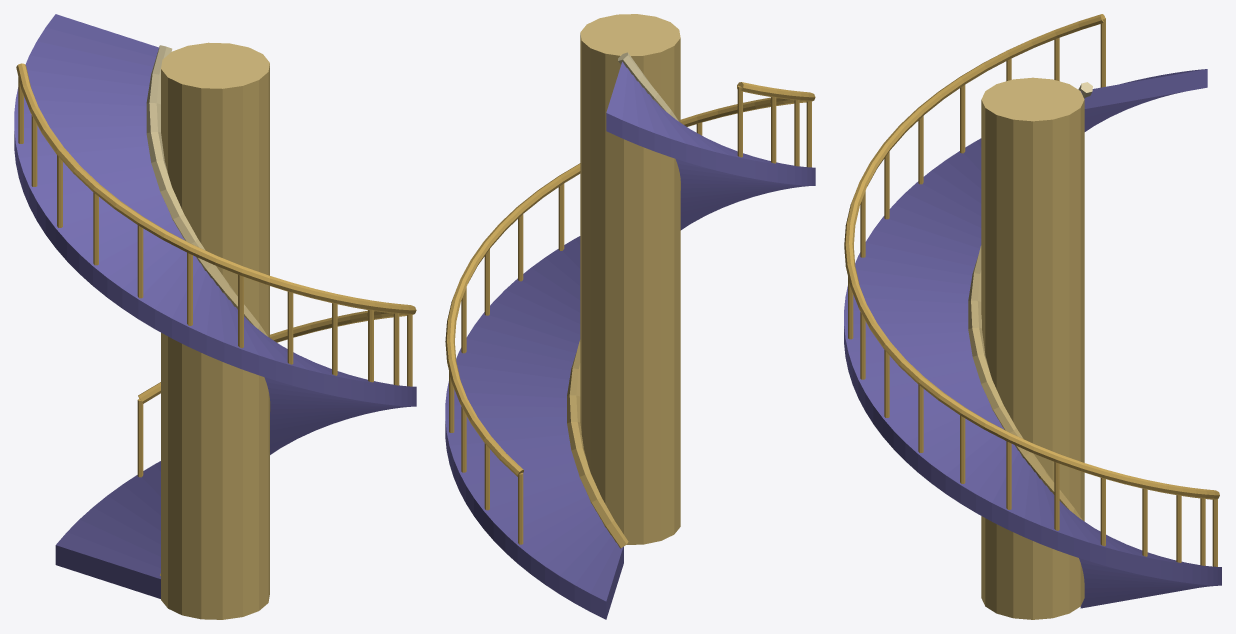
The model's file is goo_jar_stair@starlight.fbx.
3 renders of one model, left to right at view 1: azimuth 30°, elevation 25°; view 2: azimuth 150°, elevation 25°; view 3: azimuth 270°, elevation 25°, orthographic. The views are drawn at different scales.
Visible parts, largest first — view 1: goo_jar_stair; view 2: goo_jar_stair; view 3: goo_jar_stair.
Part boxes in pixels (x1=…): goo_jar_stair: x1=14, y1=14, x2=416, y2=619; goo_jar_stair: x1=445, y1=14, x2=815, y2=619; goo_jar_stair: x1=844, y1=14, x2=1221, y2=619.
Size of the model in its own units: 10.99 by 17.03 by 10.99.
